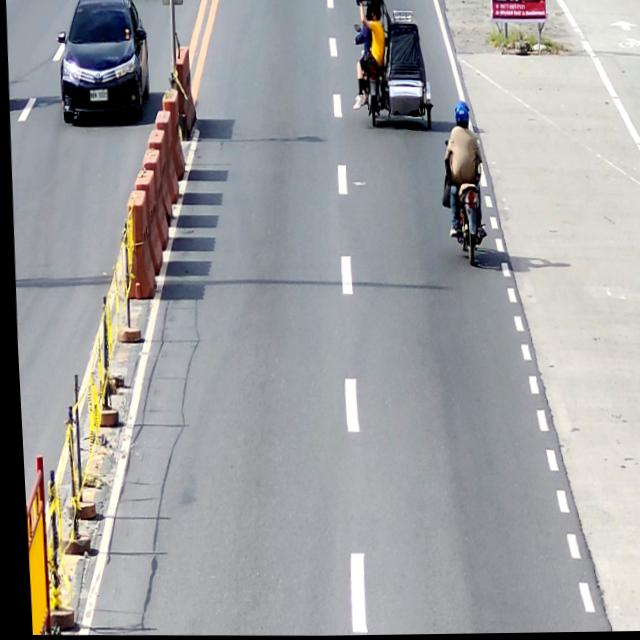Car: (52, 0, 151, 125)
License-Plate: (86, 86, 108, 103)
Motorcycle: (433, 127, 491, 272)
Tricycle: (351, 0, 435, 131)
